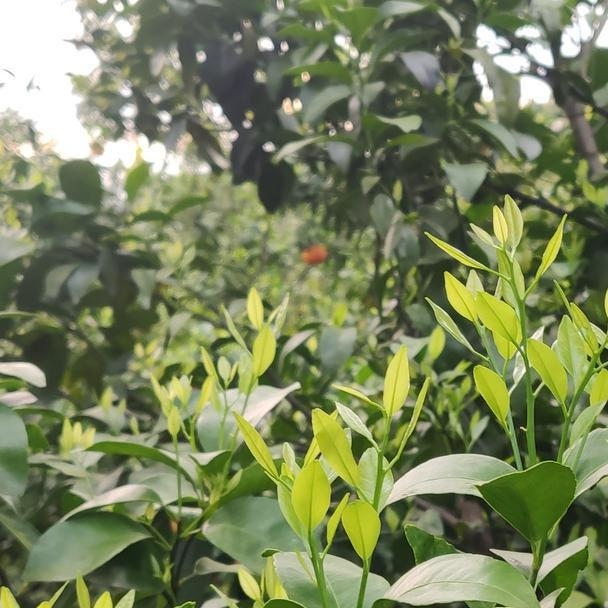shoot: (428, 171, 557, 405), (339, 358, 430, 576), (245, 413, 336, 576), (543, 286, 608, 419), (223, 299, 289, 390), (150, 369, 223, 441)
